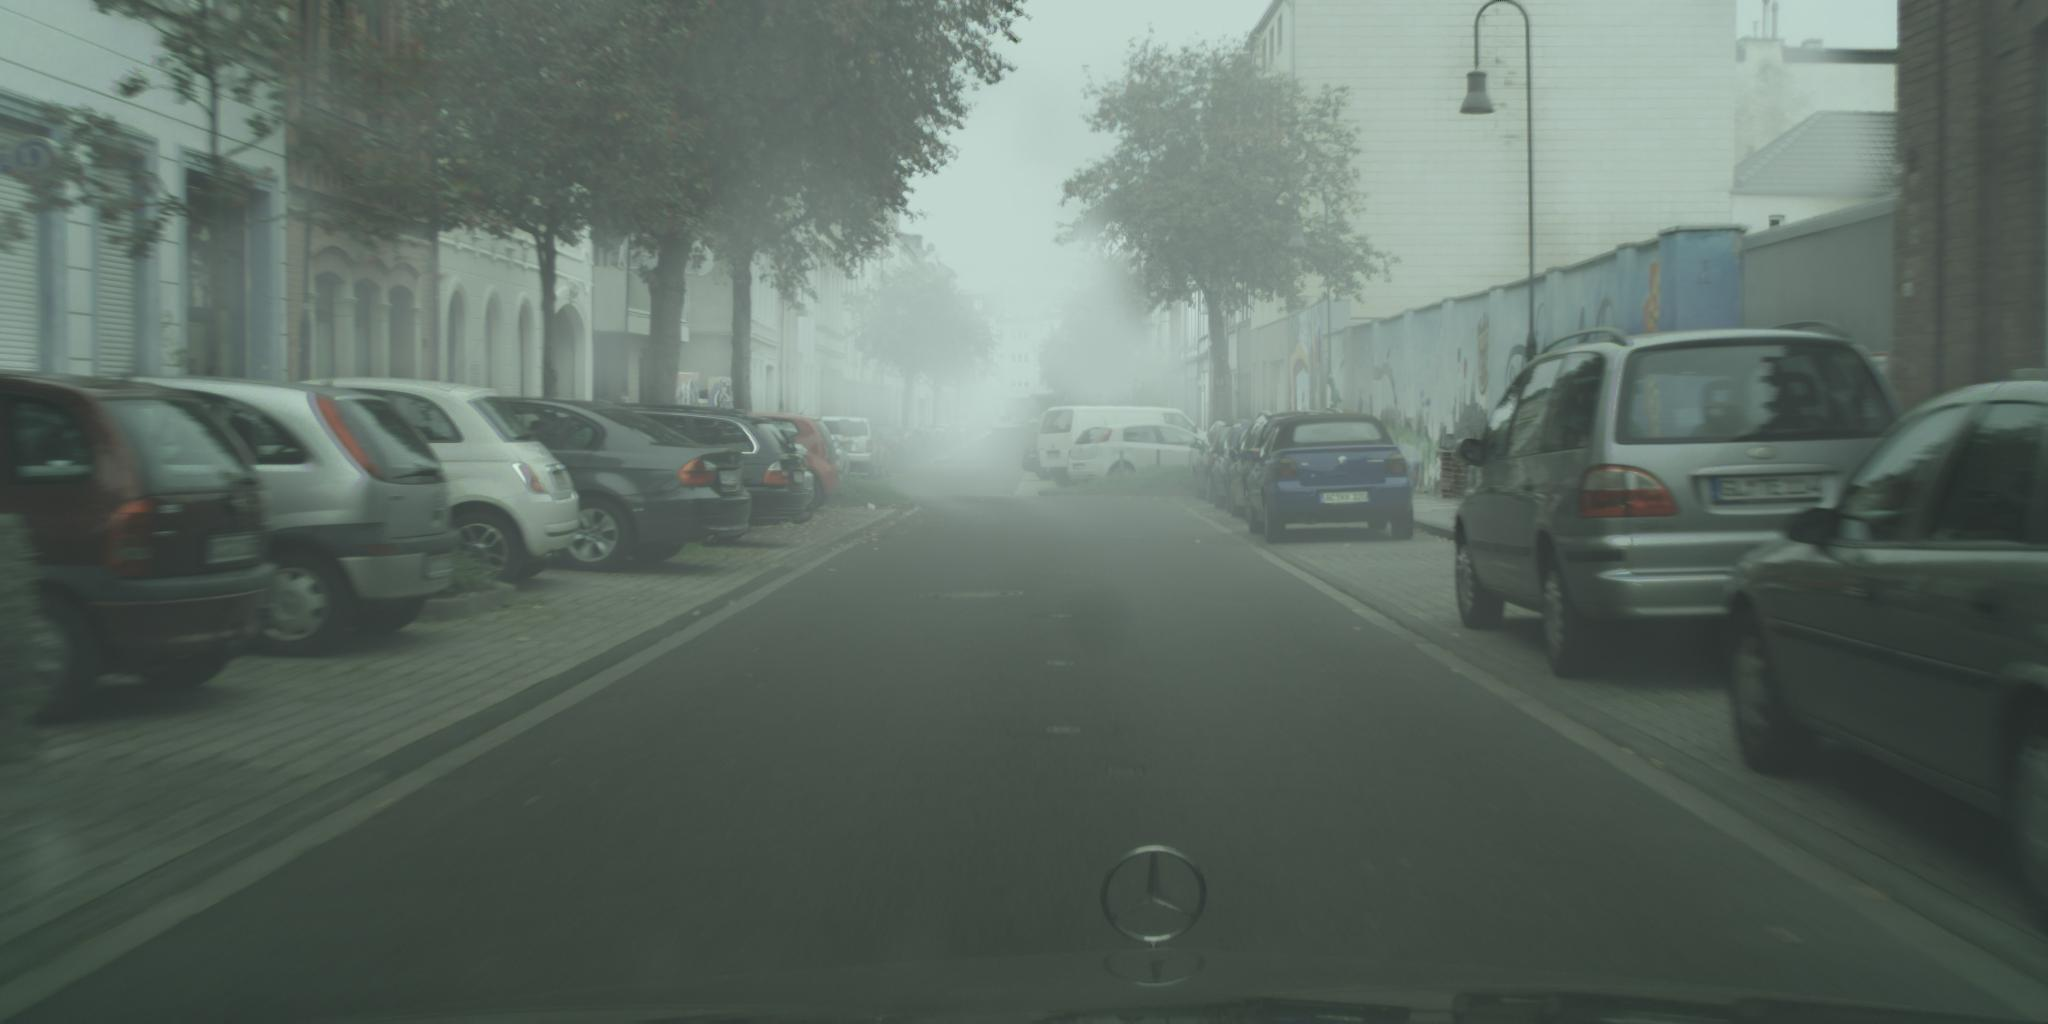car: (1454, 320, 2002, 680), (1720, 379, 2048, 846), (97, 376, 461, 657), (1, 370, 283, 728), (274, 377, 583, 590), (468, 394, 754, 573), (576, 404, 812, 526), (1241, 414, 1415, 543), (1037, 405, 1209, 488), (1228, 408, 1345, 517), (731, 411, 844, 509), (1067, 424, 1209, 485), (1191, 421, 1249, 505), (1211, 423, 1258, 509), (822, 417, 884, 479), (857, 423, 906, 477), (865, 423, 913, 473), (782, 444, 811, 525), (857, 423, 893, 477), (888, 428, 925, 472), (1021, 440, 1058, 481), (862, 432, 893, 478), (895, 428, 935, 464), (939, 418, 973, 458), (823, 438, 852, 477), (956, 415, 993, 443), (912, 428, 940, 462), (922, 427, 953, 457), (917, 431, 948, 461), (831, 435, 852, 478), (936, 424, 963, 452)
